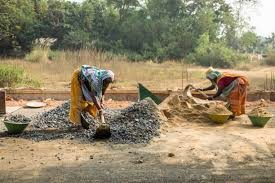arm: (89, 89, 103, 117), (205, 86, 224, 101)
noglove: (96, 108, 108, 119), (206, 93, 215, 101), (196, 86, 204, 93)
novest: (68, 63, 99, 93), (216, 69, 247, 85)
